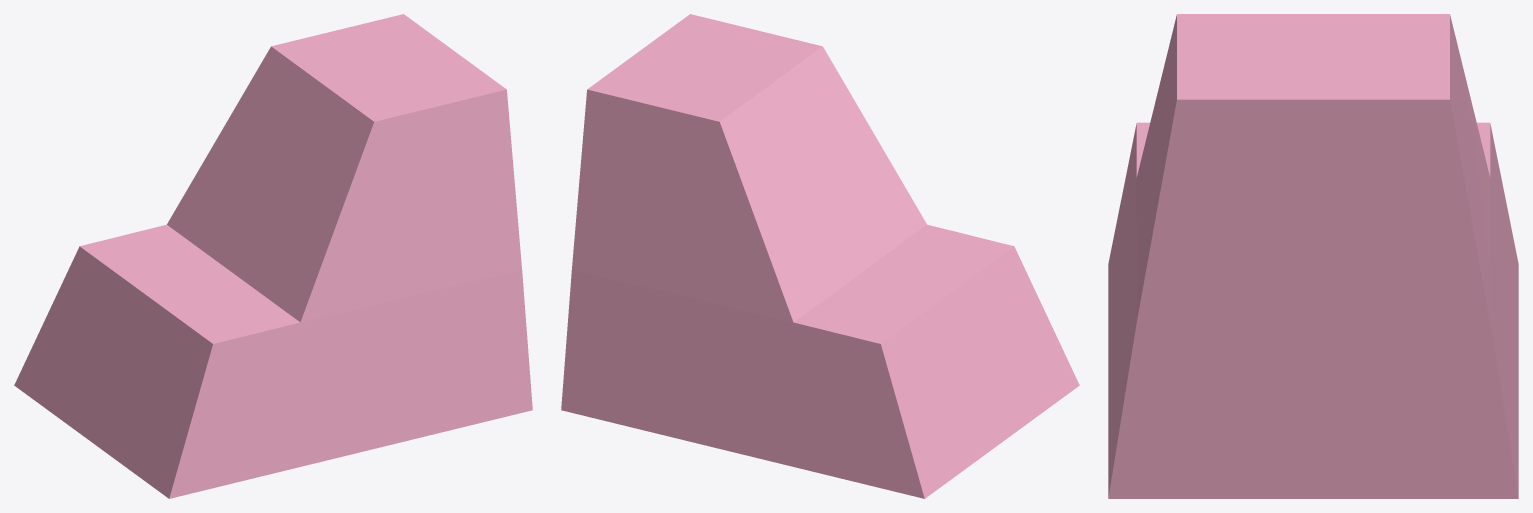
3 renders of one model, left to right at view 1: azimuth 30°, elevation 25°; view 2: azimuth 150°, elevation 25°; view 3: azimuth 270°, elevation 25°, orthographic. The views are drawn at different scales.
Parts seen in each view (by area): view 1: Object84; view 2: Object84; view 3: Object84.
Boxes of the visible parts, x1=… form: Object84: x1=14, y1=14, x2=532, y2=498; Object84: x1=561, y1=14, x2=1079, y2=498; Object84: x1=1108, y1=14, x2=1518, y2=498.
Bounding box in the file's own units: 310 × 246 × 229.
